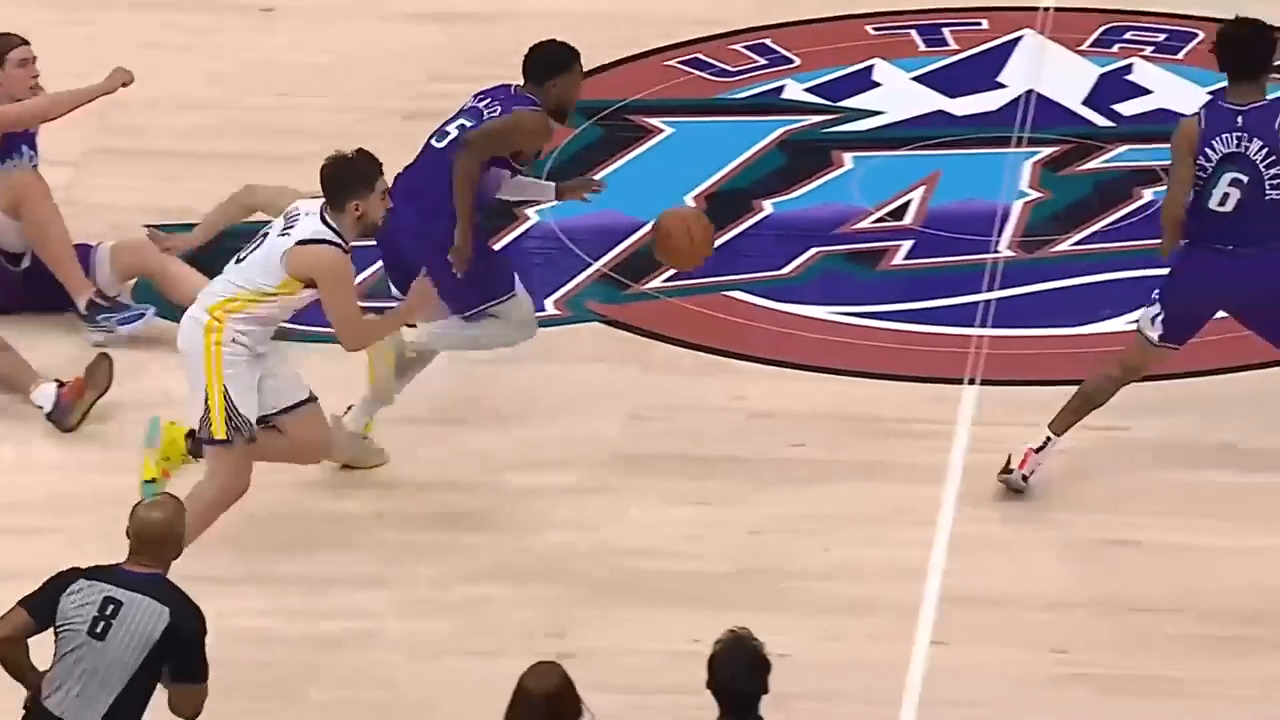ball: (643, 200, 728, 277)
